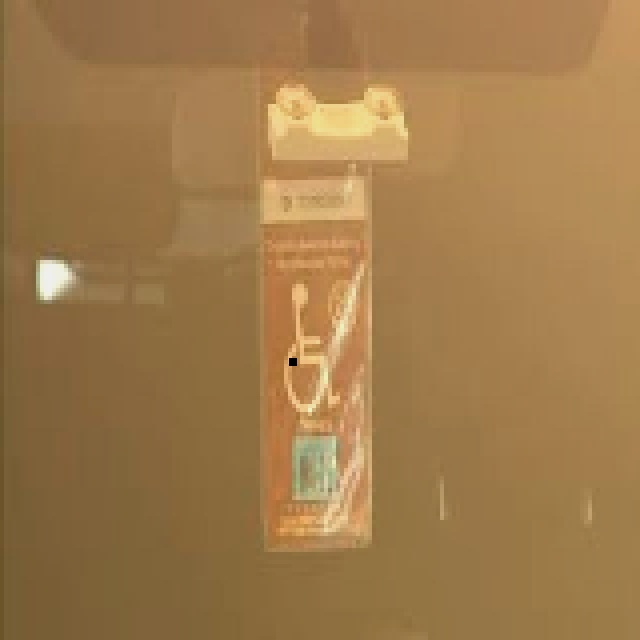ISA: (282, 278, 338, 416)
